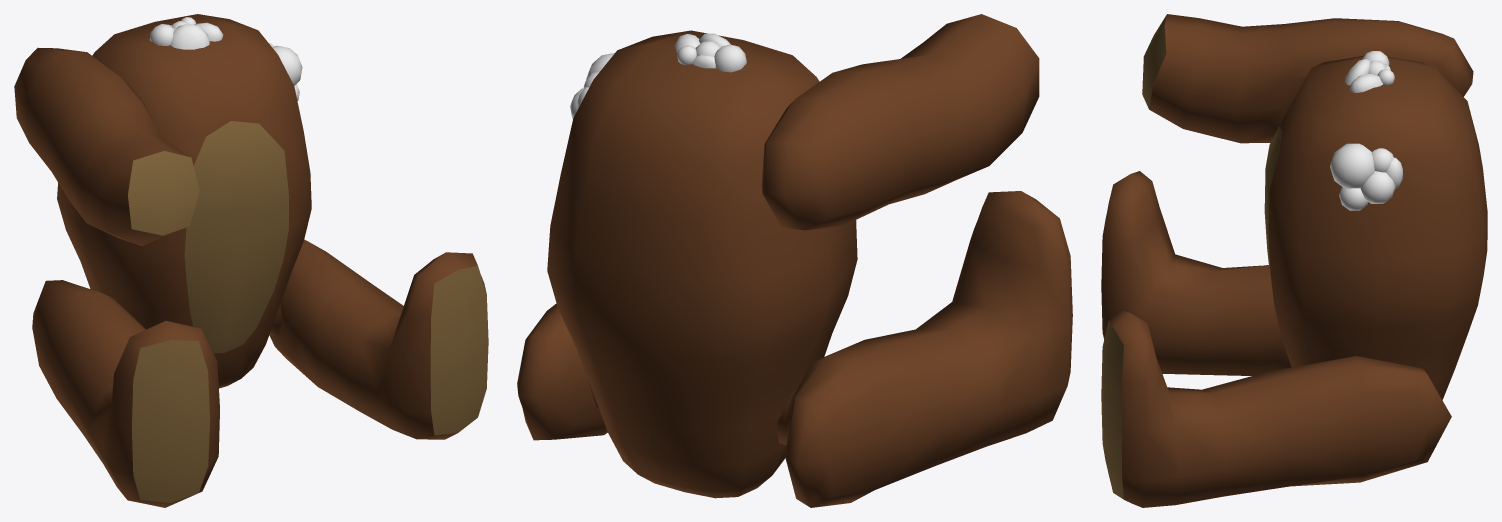
The model's file is SM_Bear_Broken.glb.
The picture shows the model from 3 angles, left to right: view 1: azimuth 30°, elevation 25°; view 2: azimuth 150°, elevation 25°; view 3: azimuth 270°, elevation 25°; orthographic projection. The views are drawn at different scales.
Parts seen in each view (by area): view 1: SM_Bear_Broken; view 2: SM_Bear_Broken; view 3: SM_Bear_Broken.
Boxes of the visible parts, <box> form: SM_Bear_Broken: <box>14,14,488,507</box>; SM_Bear_Broken: <box>517,14,1072,507</box>; SM_Bear_Broken: <box>1101,14,1487,507</box>.
Size of the model in its own units: 0.7086 by 0.6645 by 0.6221.
